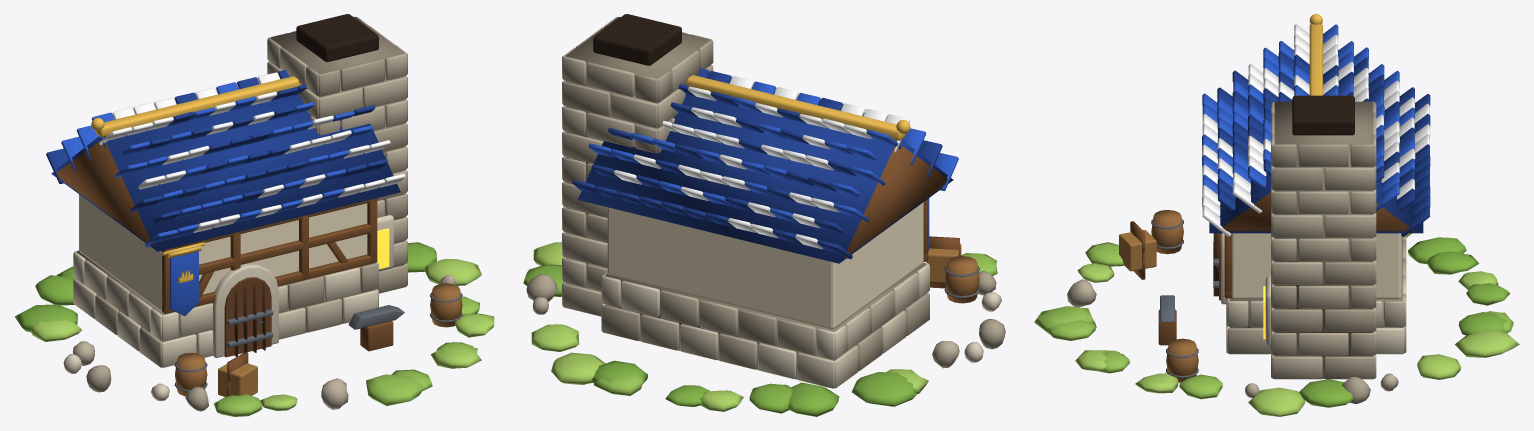
File: b_smithy.glb
3 renders of one model, left to right at view 1: azimuth 30°, elevation 25°; view 2: azimuth 150°, elevation 25°; view 3: azimuth 270°, elevation 25°, orthographic. The views are drawn at different scales.
Visible parts, largest first — view 1: root_team_dark, root_matte#7a4e2a, upper, root_matte#b8ad98, root_matte#a99e8a, root_team, root_matte#d6ccb6, root_team_light, root_matte#c9bea8, root_matte#a8d060, root_matte#8f8472, root_matte#94c252 (+9 smaller); view 2: root_team_dark, upper, root_matte#b8ad98, root_matte#a99e8a, root_team_light, root_matte#7fb243, root_matte#c9bea8, root_team, root_matte#7a4e2a, root_matte#8f8472, root_matte#d6ccb6, root_matte#a8d060 (+5 smaller); view 3: root_matte#b8ad98, root_matte#a99e8a, root_team_dark, root_team_light, root_team, root_matte#a8d060, root_matte#8f8472, root_matte#7fb243, upper, root_matte#94c252, root_matte#7a4e2a, chimneyCap (+6 smaller).
Part boxes in pixels (x1=…): root_team_dark: x1=46, y1=70, x2=400, y2=251; root_matte#7a4e2a: x1=54, y1=141, x2=393, y2=396; upper: x1=79, y1=194, x2=367, y2=312; root_matte#b8ad98: x1=73, y1=16, x2=455, y2=409; root_matte#a99e8a: x1=86, y1=17, x2=407, y2=411; root_team: x1=61, y1=82, x2=372, y2=316; root_matte#d6ccb6: x1=63, y1=215, x2=393, y2=401; root_team_light: x1=99, y1=72, x2=405, y2=232; root_matte#c9bea8: x1=73, y1=260, x2=378, y2=351; root_matte#a8d060: x1=31, y1=259, x2=494, y2=410; root_matte#8f8472: x1=76, y1=17, x2=404, y2=352; root_matte#94c252: x1=214, y1=296, x2=479, y2=416; root_team_dark: x1=572, y1=68, x2=953, y2=263; upper: x1=607, y1=202, x2=923, y2=329; root_matte#b8ad98: x1=532, y1=16, x2=959, y2=369; root_matte#a99e8a: x1=526, y1=17, x2=1005, y2=370; root_team_light: x1=614, y1=76, x2=909, y2=249; root_matte#7fb243: x1=523, y1=264, x2=916, y2=416; root_matte#c9bea8: x1=602, y1=272, x2=917, y2=388; root_team: x1=588, y1=81, x2=958, y2=249; root_matte#7a4e2a: x1=844, y1=144, x2=959, y2=288; root_matte#8f8472: x1=566, y1=17, x2=925, y2=379; root_matte#d6ccb6: x1=601, y1=262, x2=1001, y2=379; root_matte#a8d060: x1=531, y1=242, x2=928, y2=411; root_matte#b8ad98: x1=1067, y1=113, x2=1406, y2=397; root_matte#a99e8a: x1=1226, y1=101, x2=1406, y2=403; root_team_dark: x1=1209, y1=50, x2=1430, y2=236; root_team_light: x1=1202, y1=24, x2=1430, y2=236; root_team: x1=1202, y1=24, x2=1414, y2=210; root_matte#a8d060: x1=1075, y1=262, x2=1519, y2=416; root_matte#8f8472: x1=1230, y1=101, x2=1402, y2=378; root_matte#7fb243: x1=1299, y1=233, x2=1509, y2=407; upper: x1=1231, y1=233, x2=1401, y2=299; root_matte#94c252: x1=1034, y1=242, x2=1513, y2=399; root_matte#7a4e2a: x1=1130, y1=192, x2=1414, y2=345; chimneyCap: x1=1292, y1=95, x2=1354, y2=135.
Bounding box in the file's own units: 3.25 × 1.93 × 3.27.
